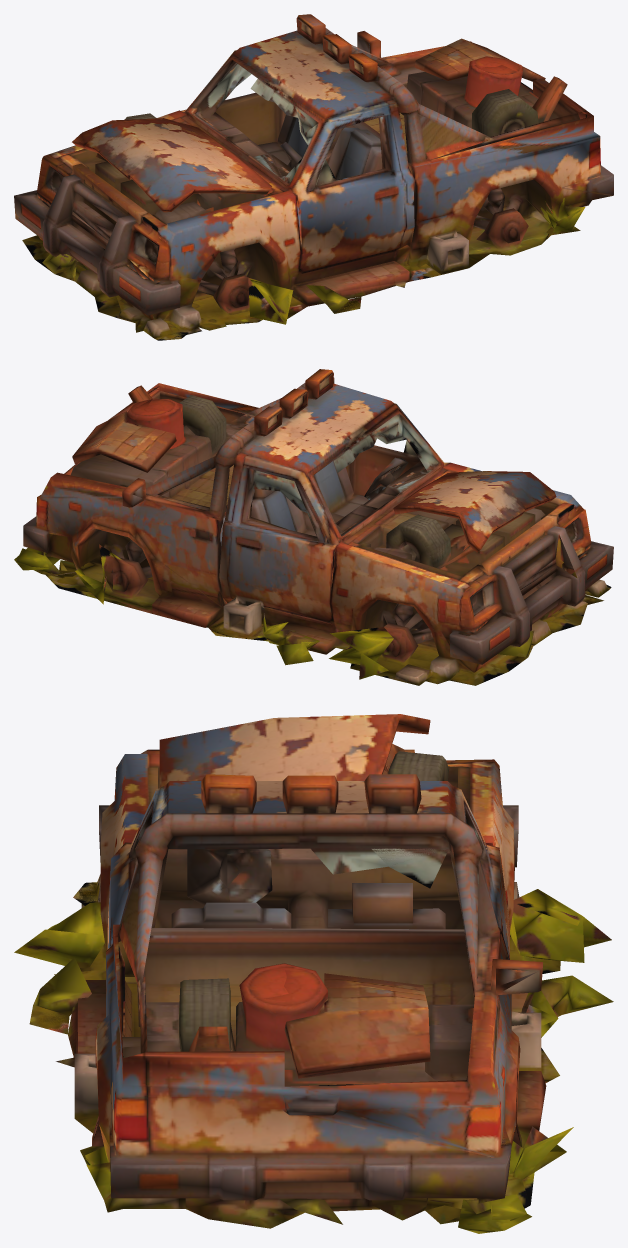
The model's file is CC_prop_RuinedTruck.fbx.
3 views of the same model, one above another, from view 1: azimuth 30°, elevation 25°; view 2: azimuth 150°, elevation 25°; view 3: azimuth 270°, elevation 25° (orthographic). The views are drawn at different scales.
Parts seen in each view (by area): view 1: CC_prop_RuinedTruck_LOD0; view 2: CC_prop_RuinedTruck_LOD0; view 3: CC_prop_RuinedTruck_LOD0.
Boxes of the visible parts, left/top/right/bottom form: CC_prop_RuinedTruck_LOD0: left=14, top=14, right=613, bottom=340; CC_prop_RuinedTruck_LOD0: left=14, top=369, right=613, bottom=685; CC_prop_RuinedTruck_LOD0: left=14, top=714, right=613, bottom=1233.
Size of what is drawn, in the model's own units: 4.55 by 1.7 by 3.08.
